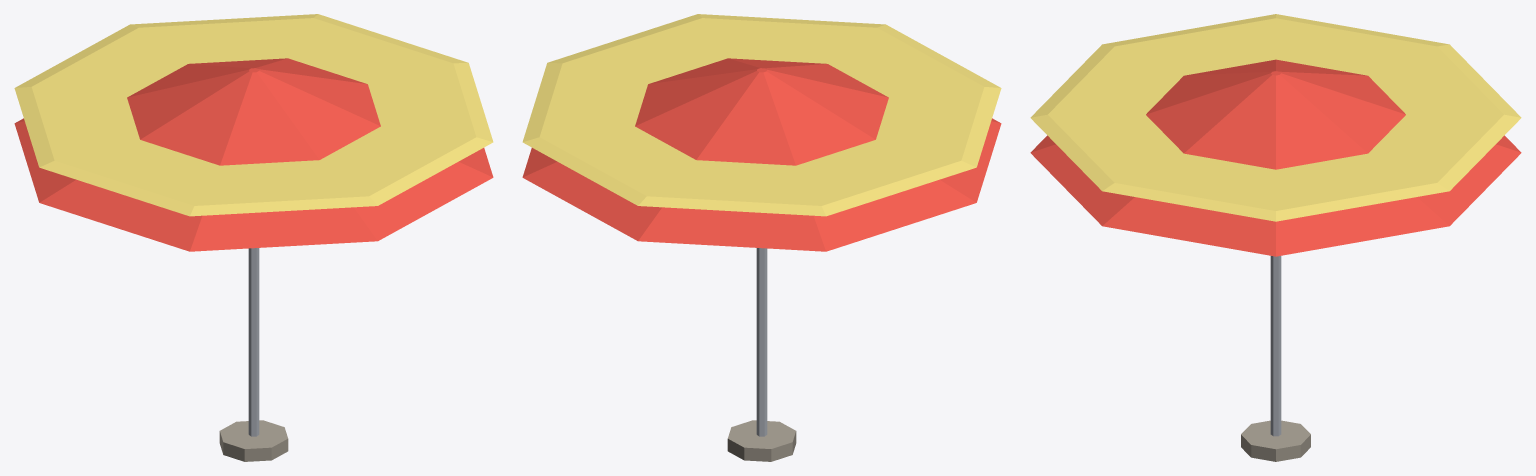
Rendered from patio_patio_umbrella.glb.
3 renders of one model, left to right at view 1: azimuth 30°, elevation 25°; view 2: azimuth 150°, elevation 25°; view 3: azimuth 270°, elevation 25°, orthographic.
Parts seen in each view (by area): view 1: patio_umbrella; view 2: patio_umbrella; view 3: patio_umbrella.
Part boxes in pixels (x1=…): patio_umbrella: x1=14, y1=14, x2=493, y2=461; patio_umbrella: x1=522, y1=14, x2=1001, y2=461; patio_umbrella: x1=1030, y1=14, x2=1521, y2=461.
Bounding box in the file's own units: 2.8 × 2.35 × 2.8.
